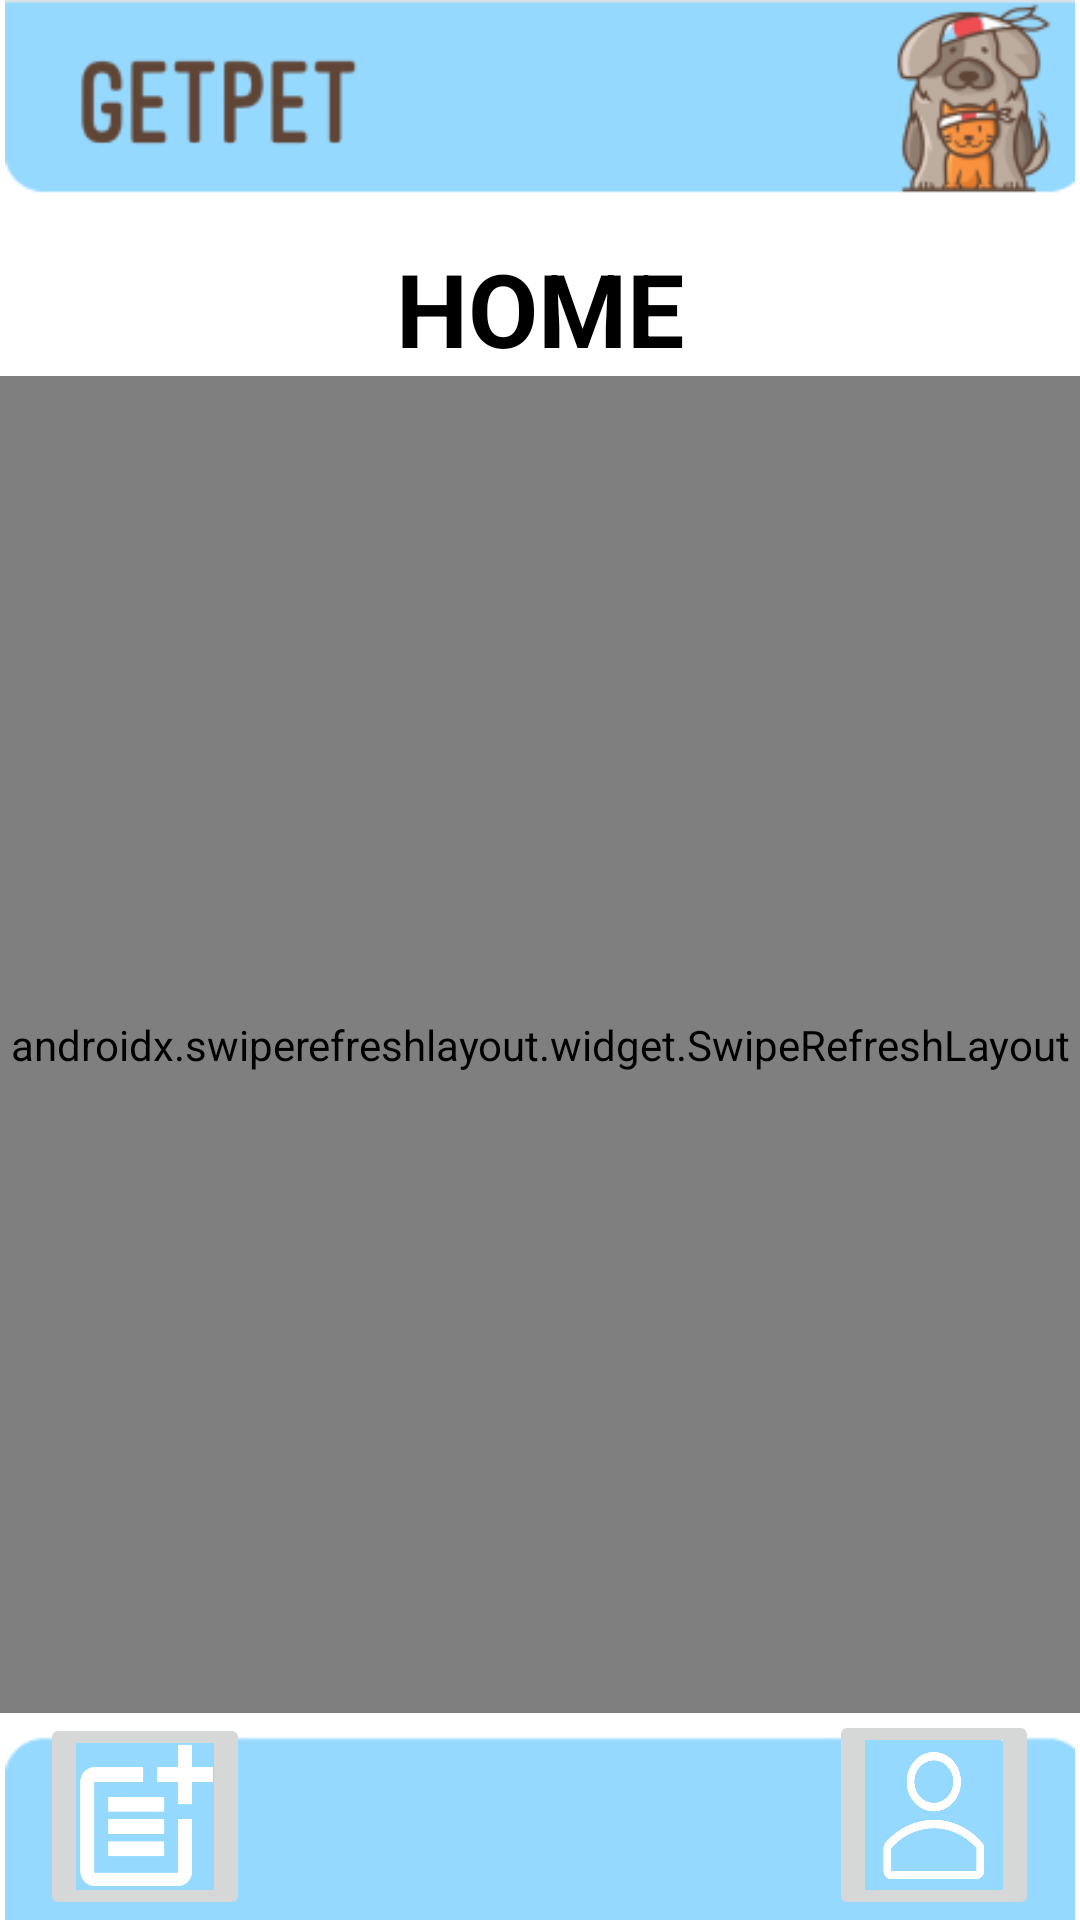

Screen size 1080px×1920px. Icon name, then its center in pixels as [x,y]:
addpost: [145,1816]
profil: [934,1815]
